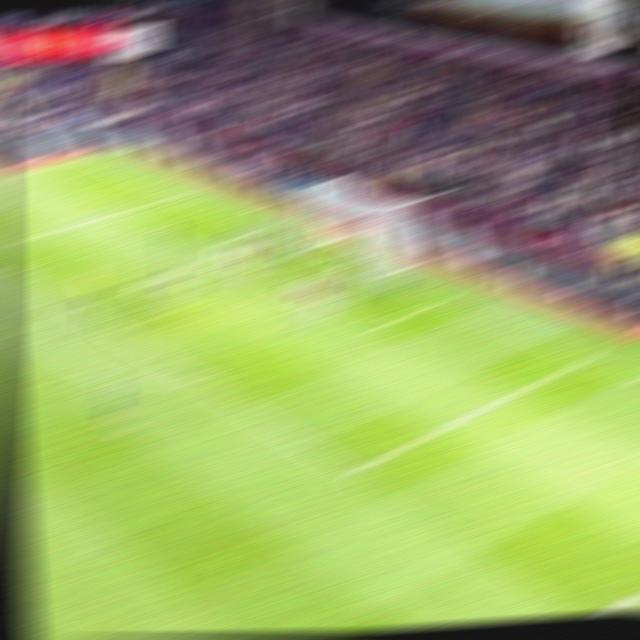bigarea_bottom_inner: (333, 459, 372, 489)
bigarea_bottom_outter: (568, 346, 606, 374)
bigarea_top_outter: (165, 183, 196, 205)
bottom_arc_area_intersection: (183, 367, 220, 399)
corner: (75, 151, 106, 165)
smallarea_bottom_inner: (360, 317, 393, 344)
smallarea_bottom_outter: (426, 293, 458, 313)
smallarea_top_inner: (188, 240, 220, 261)
top_arc_area_intersection: (54, 295, 82, 318)
